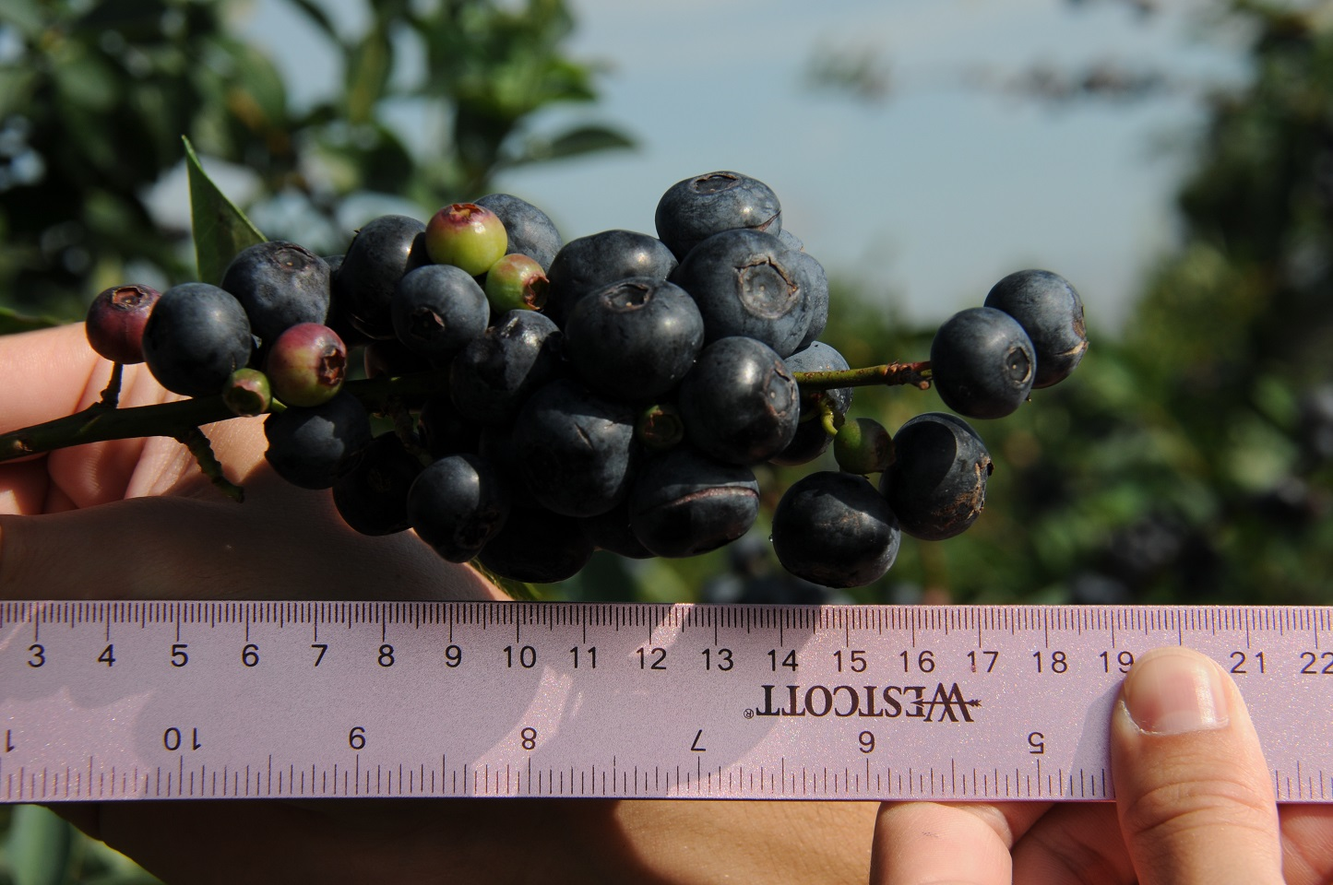Immature: (263, 322, 347, 409), (86, 282, 162, 366), (423, 202, 508, 276), (484, 254, 552, 312), (834, 417, 899, 474), (220, 368, 271, 419)
Mature: (508, 381, 650, 516), (559, 277, 704, 408), (670, 229, 814, 360), (672, 337, 801, 467), (616, 445, 761, 559), (532, 230, 681, 334), (771, 471, 901, 589), (879, 412, 994, 541), (476, 474, 600, 584), (220, 240, 340, 353), (984, 268, 1091, 391), (139, 281, 251, 397), (335, 214, 433, 342), (932, 308, 1038, 421), (654, 170, 782, 262), (331, 431, 438, 535), (262, 386, 371, 488), (768, 341, 854, 469), (408, 456, 503, 564), (392, 264, 491, 363), (471, 307, 564, 402), (470, 192, 564, 275), (777, 227, 830, 353), (597, 506, 656, 559)
